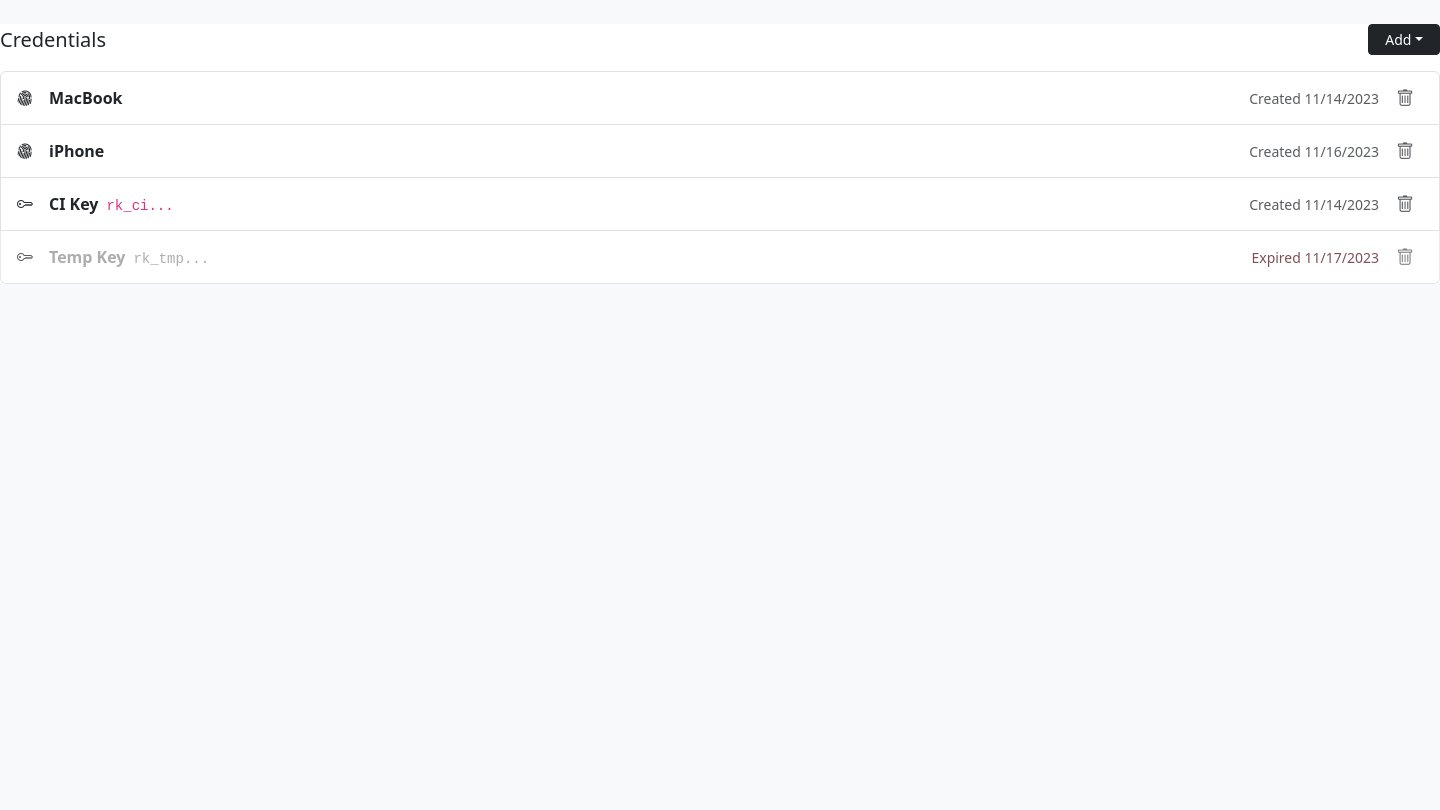
Test: CredentialsSection › revoke API key › opens confirmation modal for non-expired API key
The image size is (1440, 810).
Click the button named "Revoke API key CI Key".
click(1405, 204)  # box [1387, 186, 1423, 222]
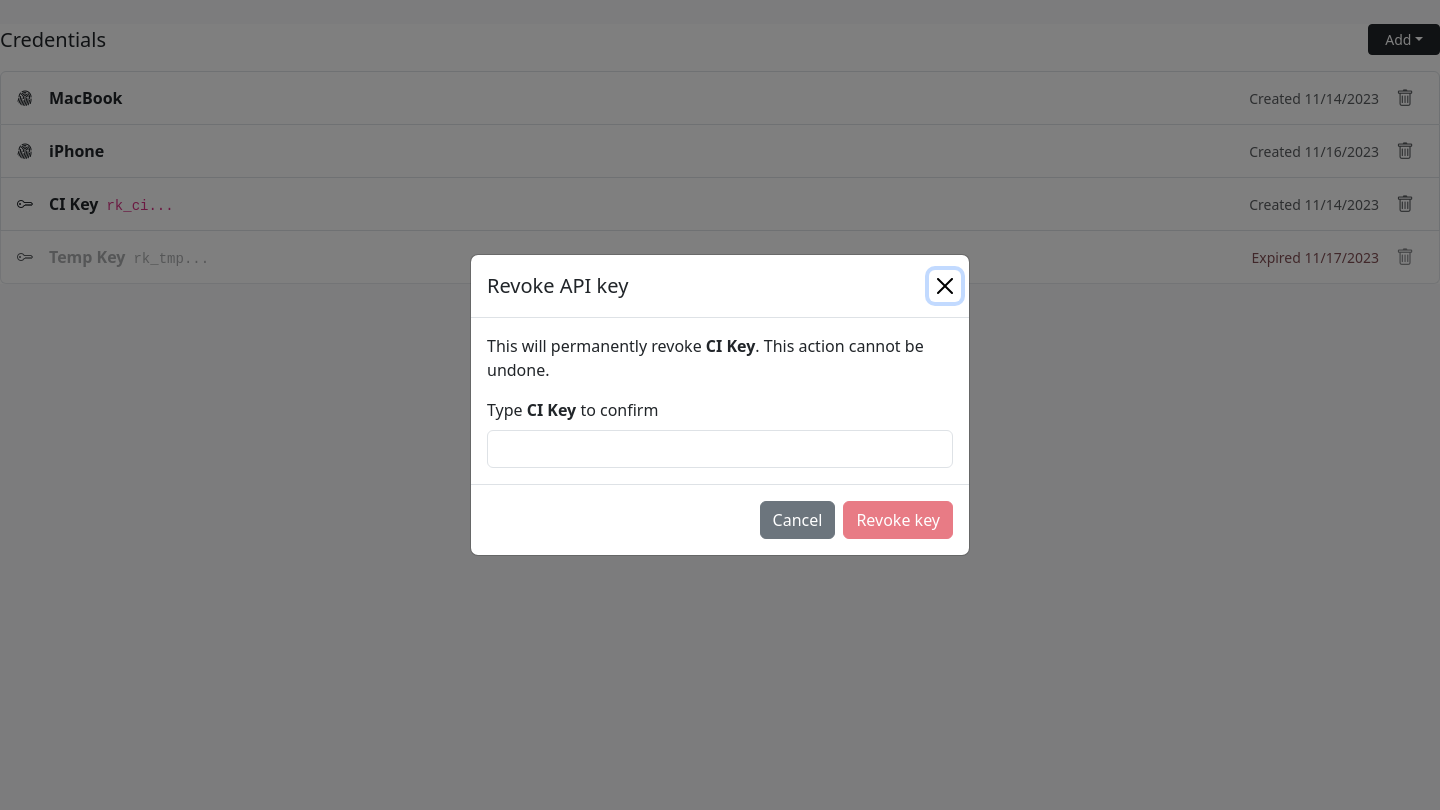
Result: the dialog is shown at [470, 254, 970, 556]
Result: the heading "Revoke API key" is shown at [487, 271, 628, 301]
